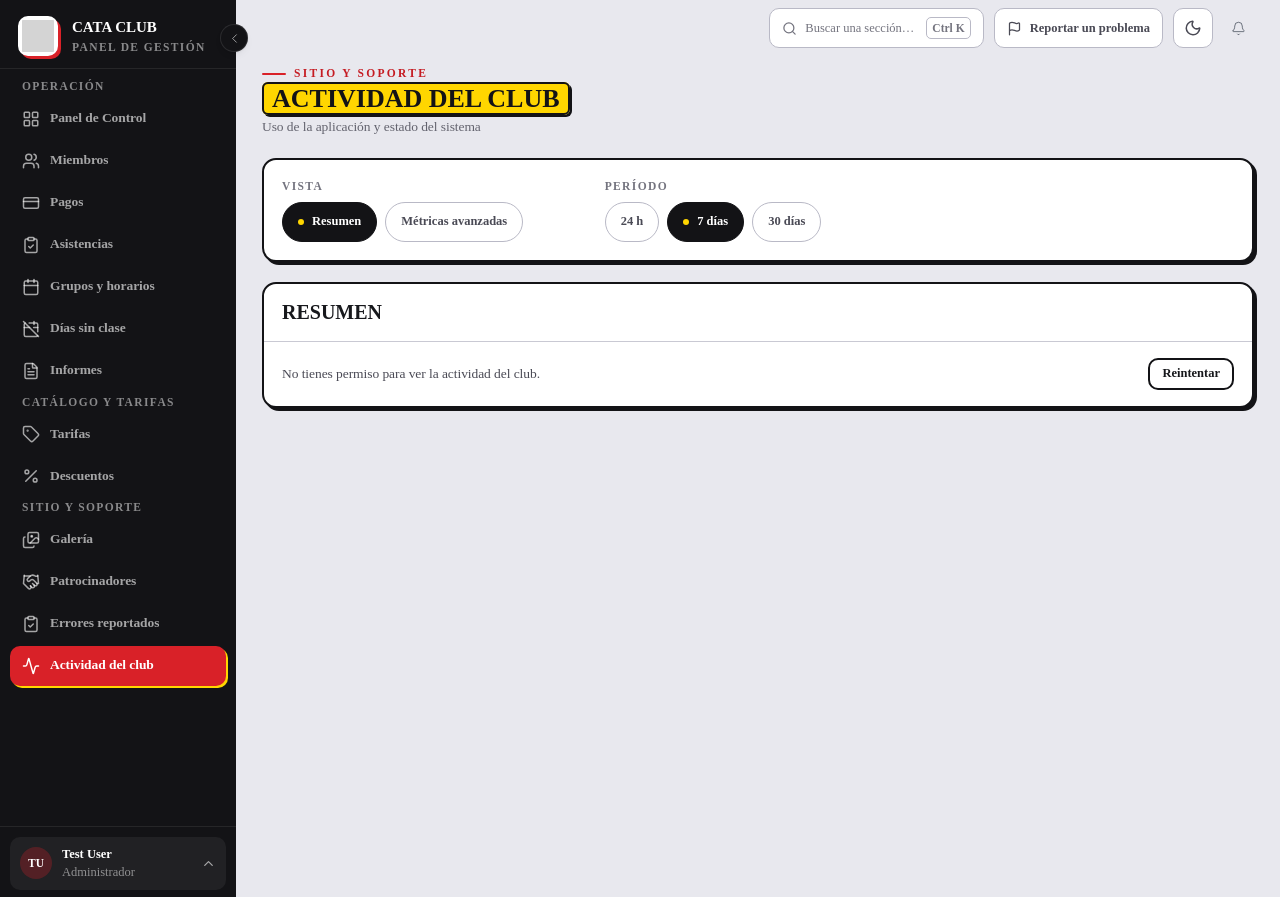
ActividadPage — Resumen › turns a 403 into a notice that names the permission and offers a retry
expect the message with test id "section-notice" shows "permiso": met, box [282, 366, 540, 381]
Click the button "Reintentar" at (1191, 374), box [1148, 358, 1234, 390]
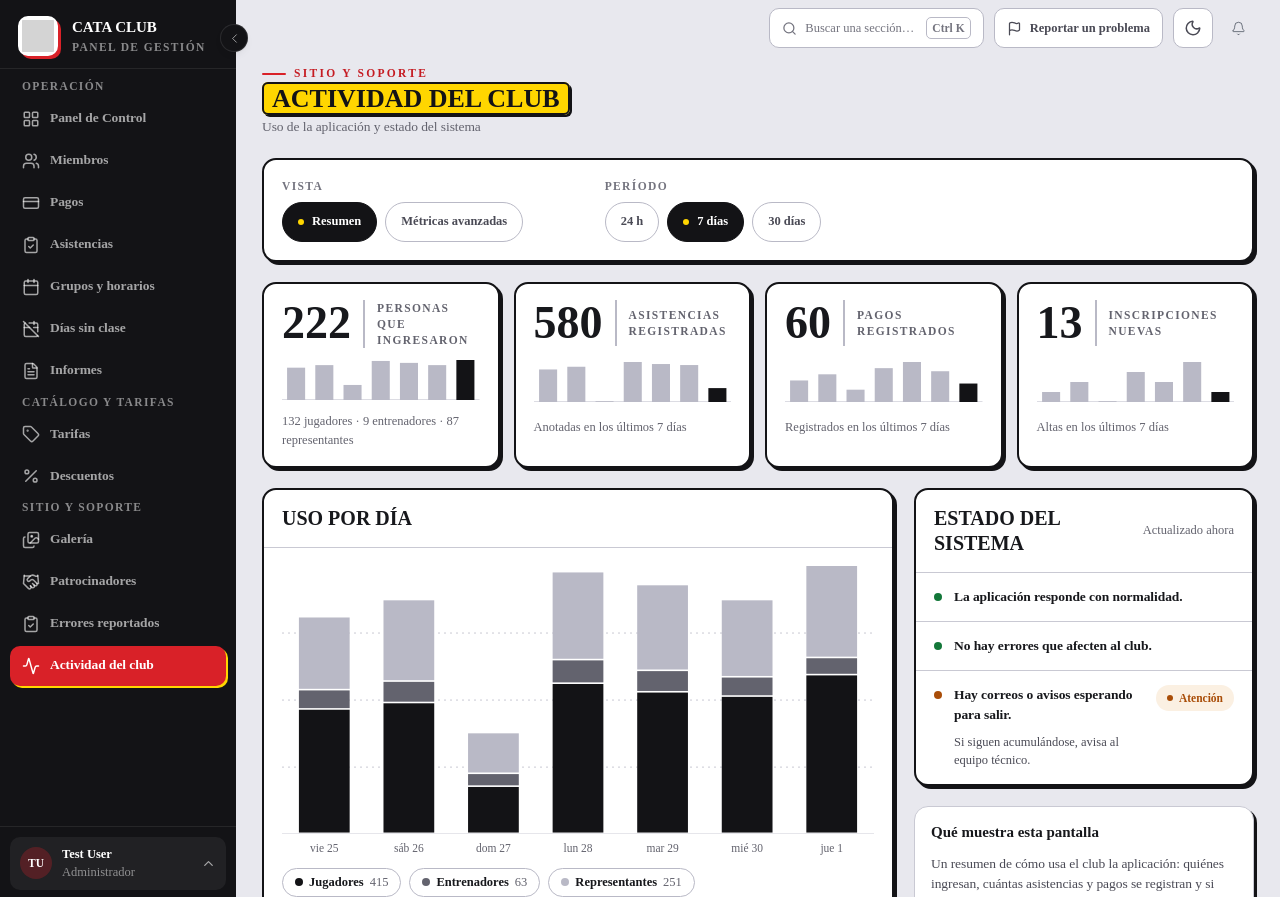
expect the element with test id "activity-kpis" is shown: met, box [262, 282, 1254, 468]
expect the message with test id "section-notice" is gone: met
